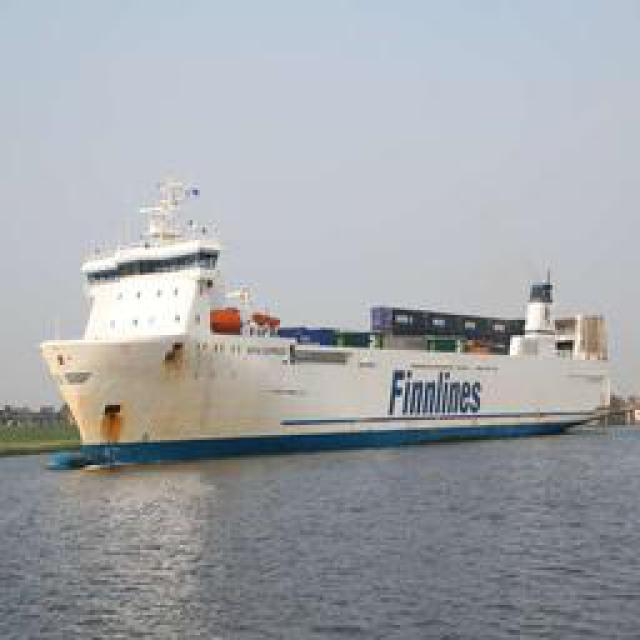Ship: (39, 210, 624, 463)
